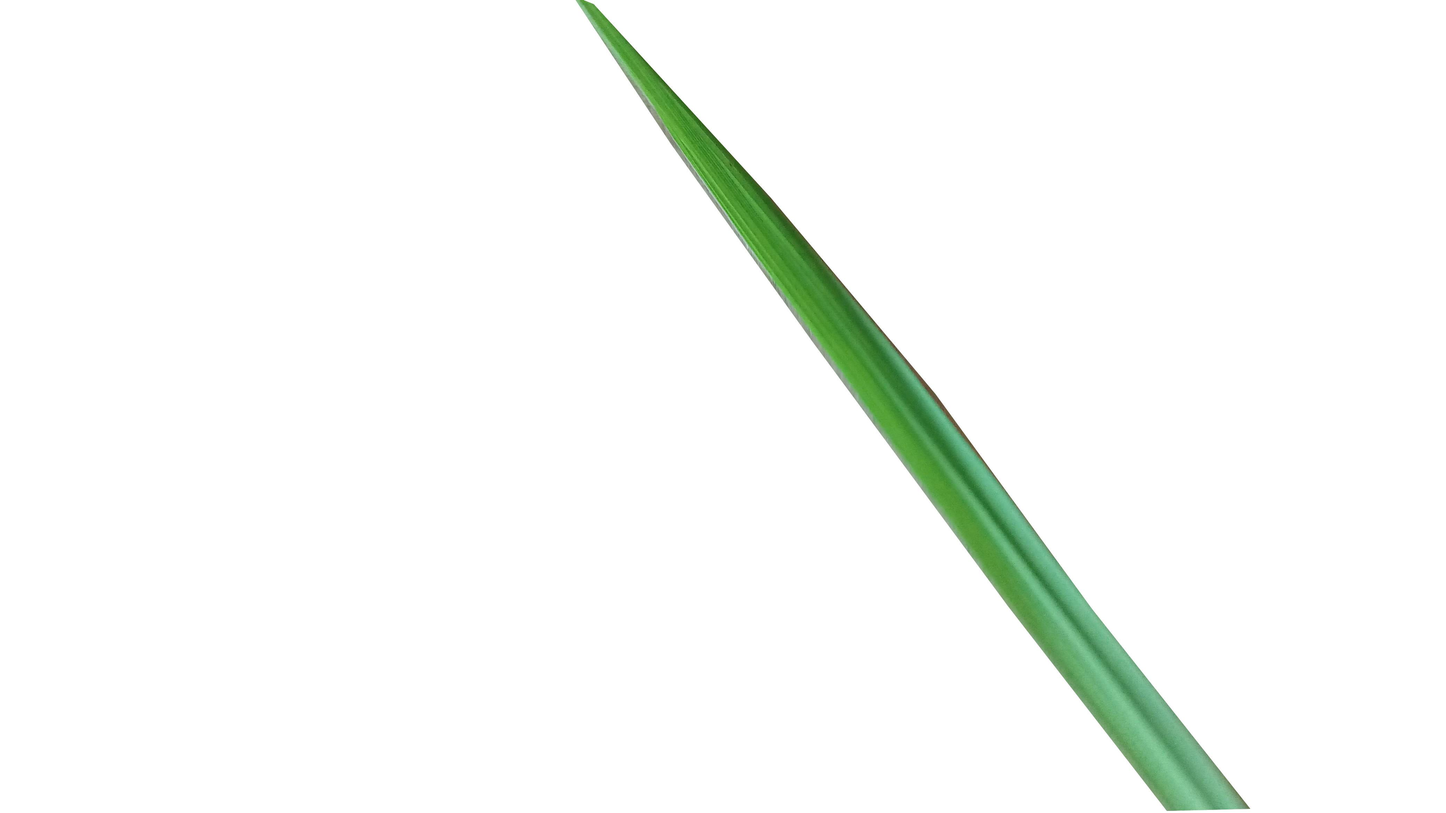Healthy: (569, 0, 1252, 813)
